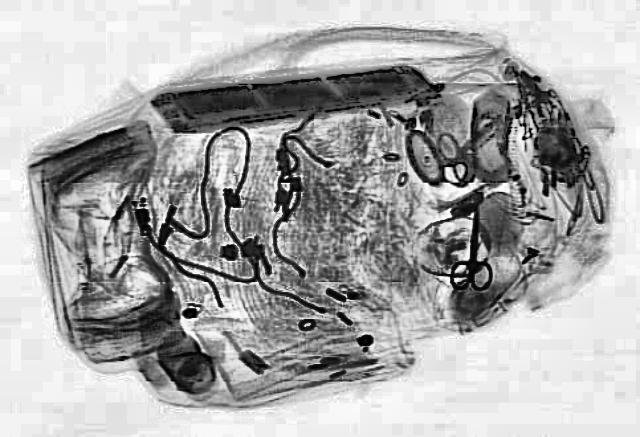Scissors: (404, 108, 526, 184), (445, 209, 495, 289)
